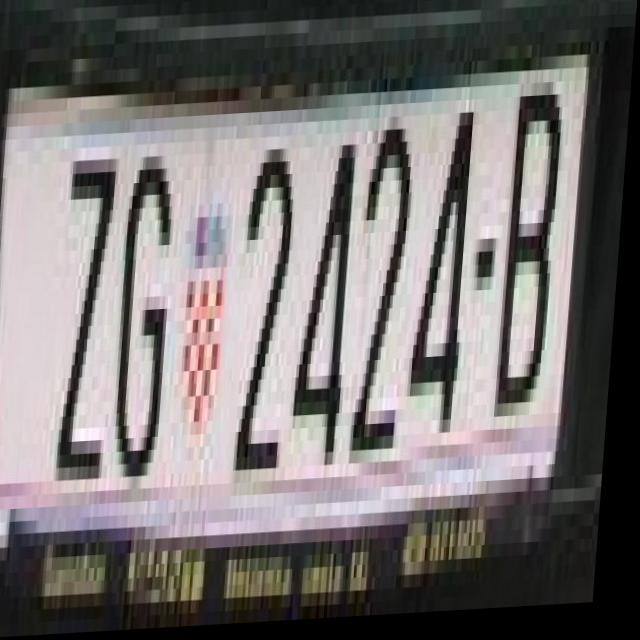2: (353, 108, 426, 481), (230, 139, 306, 474)
4: (407, 104, 487, 466), (293, 136, 365, 497)
B: (492, 88, 569, 437)
G: (117, 145, 182, 480)
Z: (55, 147, 131, 483)
